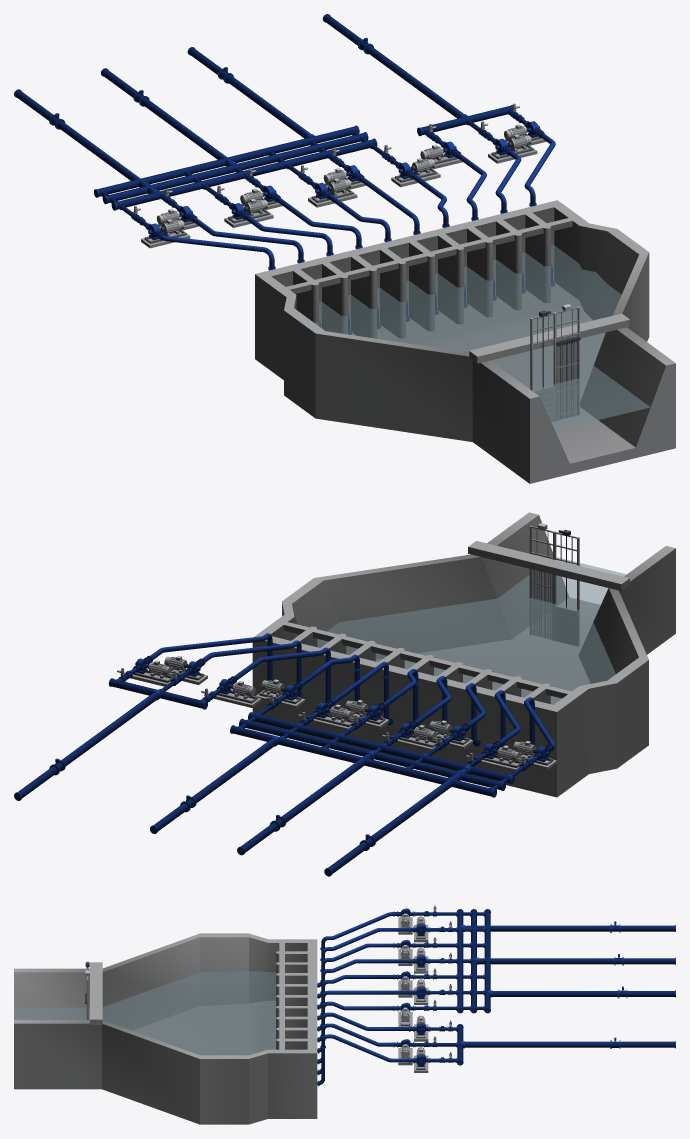
3 views of the same model, one above another, from view 1: azimuth 30°, elevation 25°; view 2: azimuth 150°, elevation 25°; view 3: azimuth 270°, elevation 25° (orthographic). The views are drawn at different scales.
Visible parts, largest first — view 1: STATIC__CIVIL, BASIN-01, HDR-01__HDR__PIPE, HDR-02__HDR__PIPE, HDR-03__HDR__PIPE, HDR-04__HDR__PIPE, RACK-01__RACK__BARS, PMP-02__PIPE__SUCTION, PMP-01__PIPE__SUCTION, PMP-04__PIPE__SUCTION, PMP-03__PIPE__SUCTION; view 2: STATIC__CIVIL, BASIN-01, HDR-01__HDR__PIPE, HDR-02__HDR__PIPE, HDR-03__HDR__PIPE, HDR-04__HDR__PIPE, RACK-01__RACK__BARS, PMP-10__PIPE__SUCTION, PMP-08__PIPE__SUCTION, PMP-09__PIPE__SUCTION, GATE-01__GATE__FRAME, GATE-01__GATE__LEAF (+7 smaller); view 3: STATIC__CIVIL, BASIN-01, HDR-01__HDR__PIPE, HDR-02__HDR__PIPE, HDR-03__HDR__PIPE, HDR-04__HDR__PIPE, PMP-10__PIPE__SUCTION, PMP-06__PIPE__SUCTION, PMP-04__PIPE__SUCTION, PMP-02__PIPE__SUCTION, PMP-08__PIPE__SUCTION, PMP-09__PIPE__SUCTION (+4 smaller).
Boxes of the visible parts, <box> form: STATIC__CIVIL: <box>141,136,675,483</box>; BASIN-01: <box>315,245,649,430</box>; HDR-01__HDR__PIPE: <box>14,89,377,210</box>; HDR-02__HDR__PIPE: <box>101,68,368,204</box>; HDR-03__HDR__PIPE: <box>94,47,359,197</box>; HDR-04__HDR__PIPE: <box>322,14,512,135</box>; RACK-01__RACK__BARS: <box>554,304,579,420</box>; PMP-02__PIPE__SUCTION: <box>189,215,320,327</box>; PMP-01__PIPE__SUCTION: <box>158,232,275,270</box>; PMP-04__PIPE__SUCTION: <box>273,194,380,328</box>; PMP-03__PIPE__SUCTION: <box>241,212,351,334</box>; STATIC__CIVIL: <box>129,512,675,797</box>; BASIN-01: <box>317,557,626,704</box>; HDR-01__HDR__PIPE: <box>248,712,514,876</box>; HDR-02__HDR__PIPE: <box>237,718,505,855</box>; HDR-03__HDR__PIPE: <box>150,725,496,833</box>; HDR-04__HDR__PIPE: <box>14,678,207,800</box>; RACK-01__RACK__BARS: <box>529,523,554,640</box>; PMP-10__PIPE__SUCTION: <box>146,633,272,680</box>; PMP-08__PIPE__SUCTION: <box>230,647,334,708</box>; PMP-09__PIPE__SUCTION: <box>199,640,305,703</box>; GATE-01__GATE__FRAME: <box>553,531,579,646</box>; GATE-01__GATE__LEAF: <box>555,606,576,645</box>; STATIC__CIVIL: <box>14,917,428,1124</box>; BASIN-01: <box>14,971,275,1055</box>; HDR-01__HDR__PIPE: <box>456,909,675,1013</box>; HDR-02__HDR__PIPE: <box>470,909,675,1013</box>; HDR-03__HDR__PIPE: <box>483,909,675,1013</box>; HDR-04__HDR__PIPE: <box>456,1024,675,1065</box>; PMP-10__PIPE__SUCTION: <box>317,1034,412,1086</box>; PMP-06__PIPE__SUCTION: <box>317,990,412,1042</box>; PMP-04__PIPE__SUCTION: <box>317,958,412,1020</box>; PMP-02__PIPE__SUCTION: <box>317,927,412,998</box>; PMP-08__PIPE__SUCTION: <box>317,1012,412,1064</box>; PMP-09__PIPE__SUCTION: <box>317,1023,397,1075</box>.
Size of the model in its own units: 37.1 by 10.64 by 67.65.
